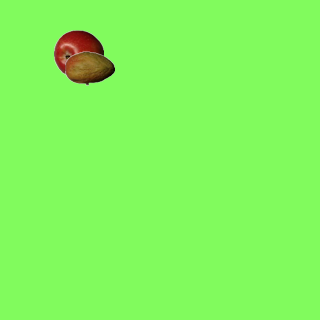Apple Braeburn: (53, 29, 103, 79)
Papaya: (64, 43, 114, 93)
